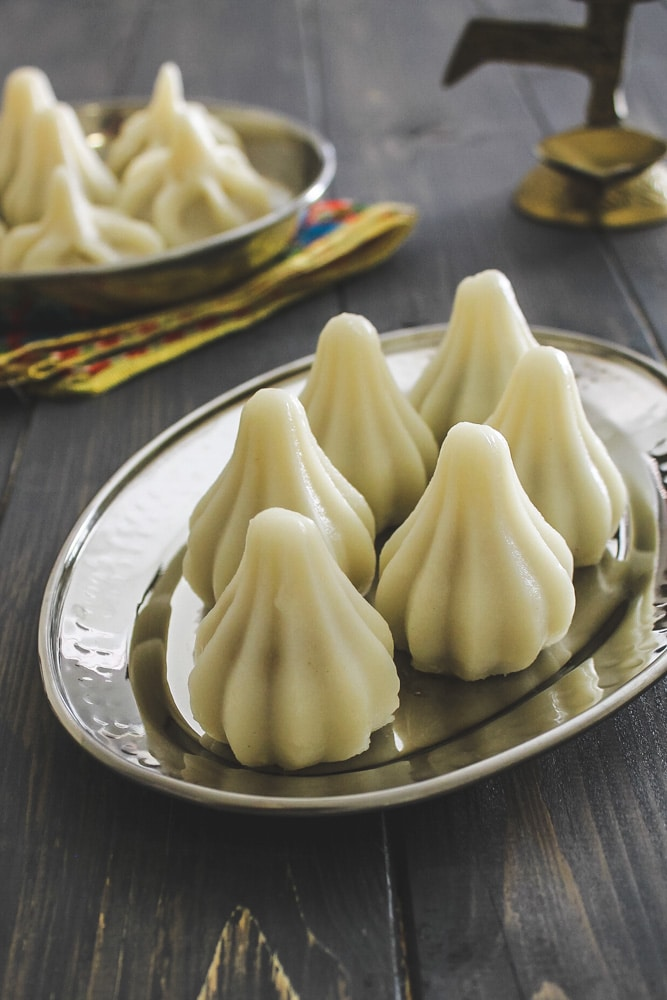modak: (171, 499, 429, 770), (382, 422, 592, 687), (291, 306, 448, 536), (476, 336, 640, 555), (210, 388, 381, 598)
